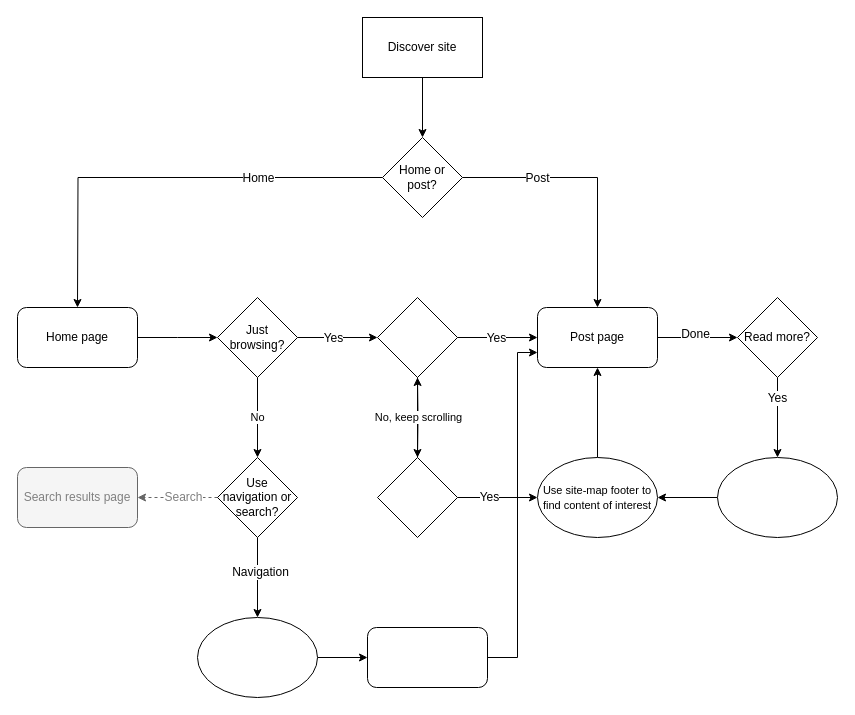
The diagram is 855 pixels wide and 715 high, and some of its shapes have lost their labels. Here are the shapes that lost their labels. From the top down, the centre of each, then its label:
At (x=417, y=337): "Interesting post found?".
At (x=417, y=497): "Bottom of page?".
At (x=777, y=497): "View related posts".
At (x=257, y=657): "Click on category in navigation bar".
At (x=427, y=657): "Category page".
